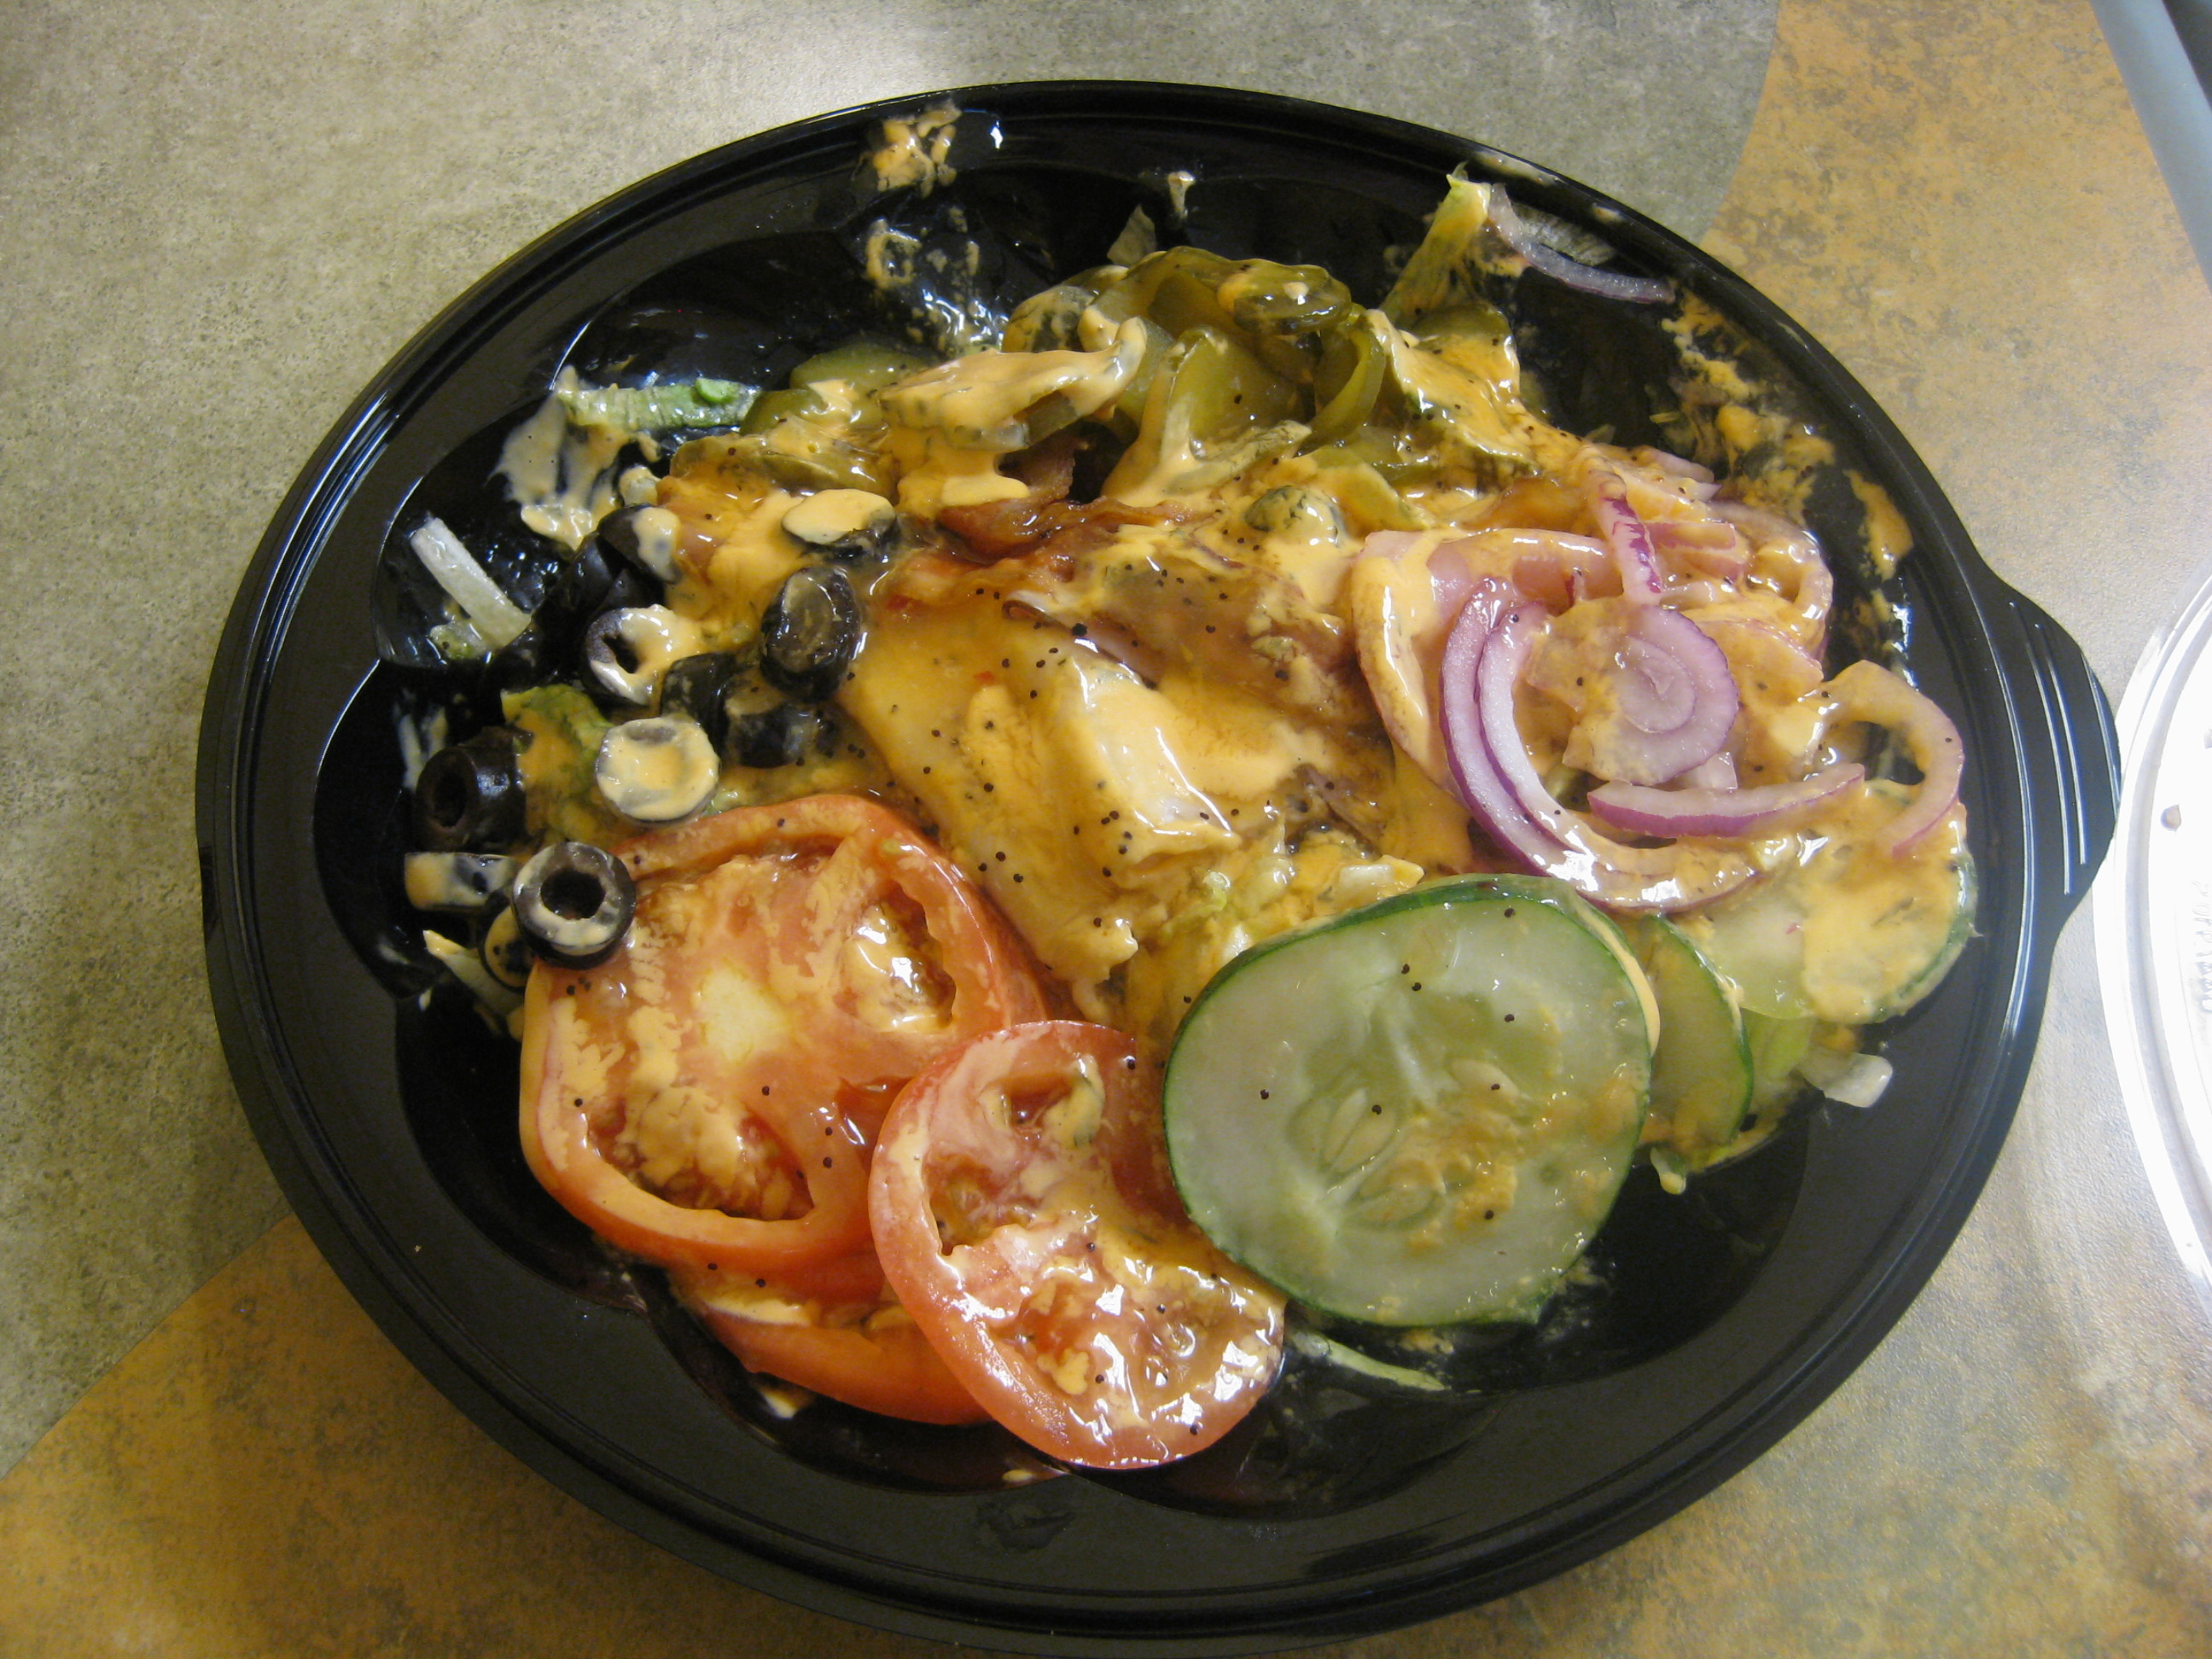salad: (390, 242, 2031, 1490)
